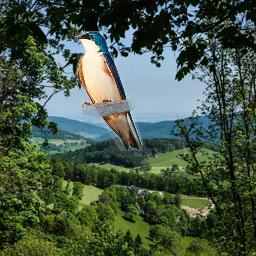Swallow: (75, 31, 143, 151)
